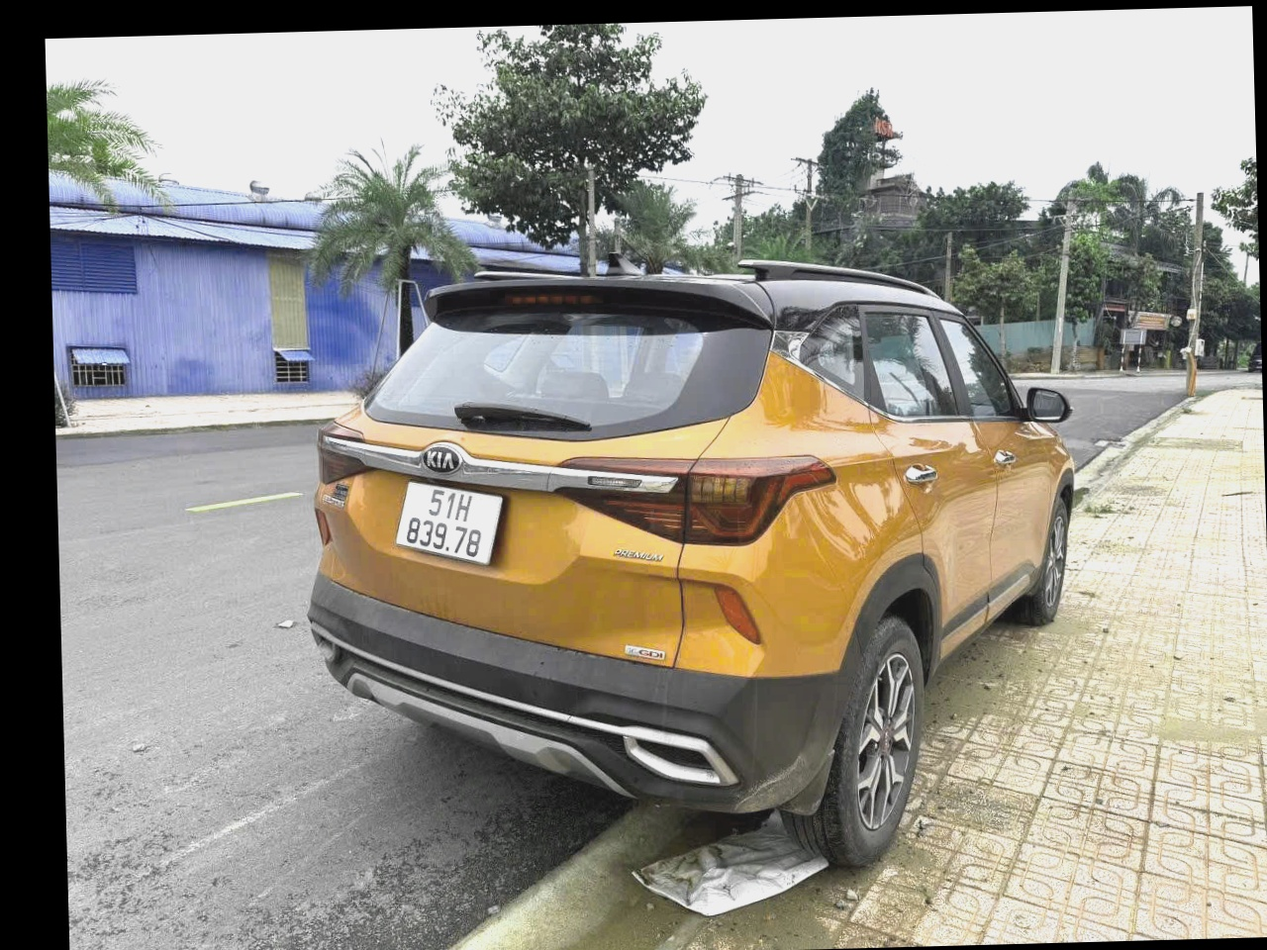Bien-so: (367, 481, 491, 574)
